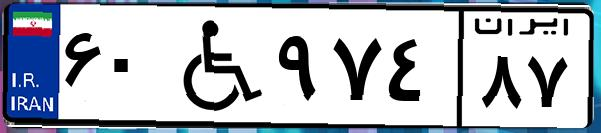0: (110, 28, 158, 98)
4: (385, 28, 445, 110)
6: (57, 26, 110, 100)
7: (330, 28, 385, 110), (525, 38, 570, 115)
8: (475, 38, 525, 113)
9: (270, 28, 330, 110)
ژ (معلولین و جانبازان): (158, 12, 270, 120)
